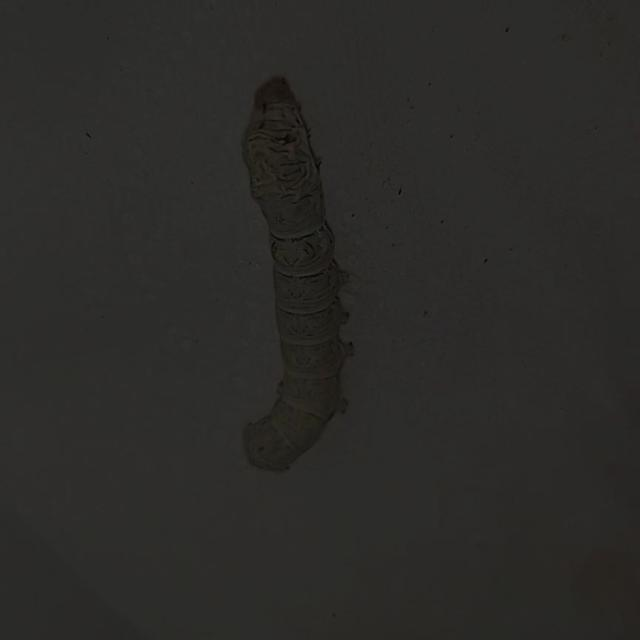Healthy: (220, 64, 364, 494)
